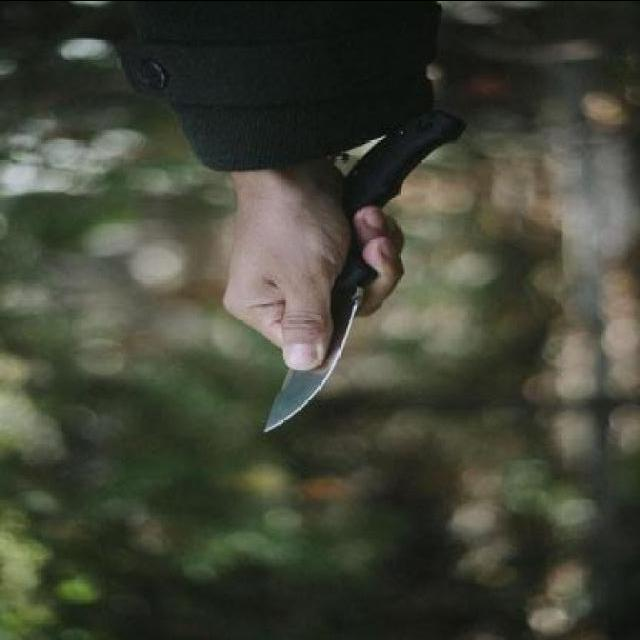Knife: (268, 106, 467, 428)
